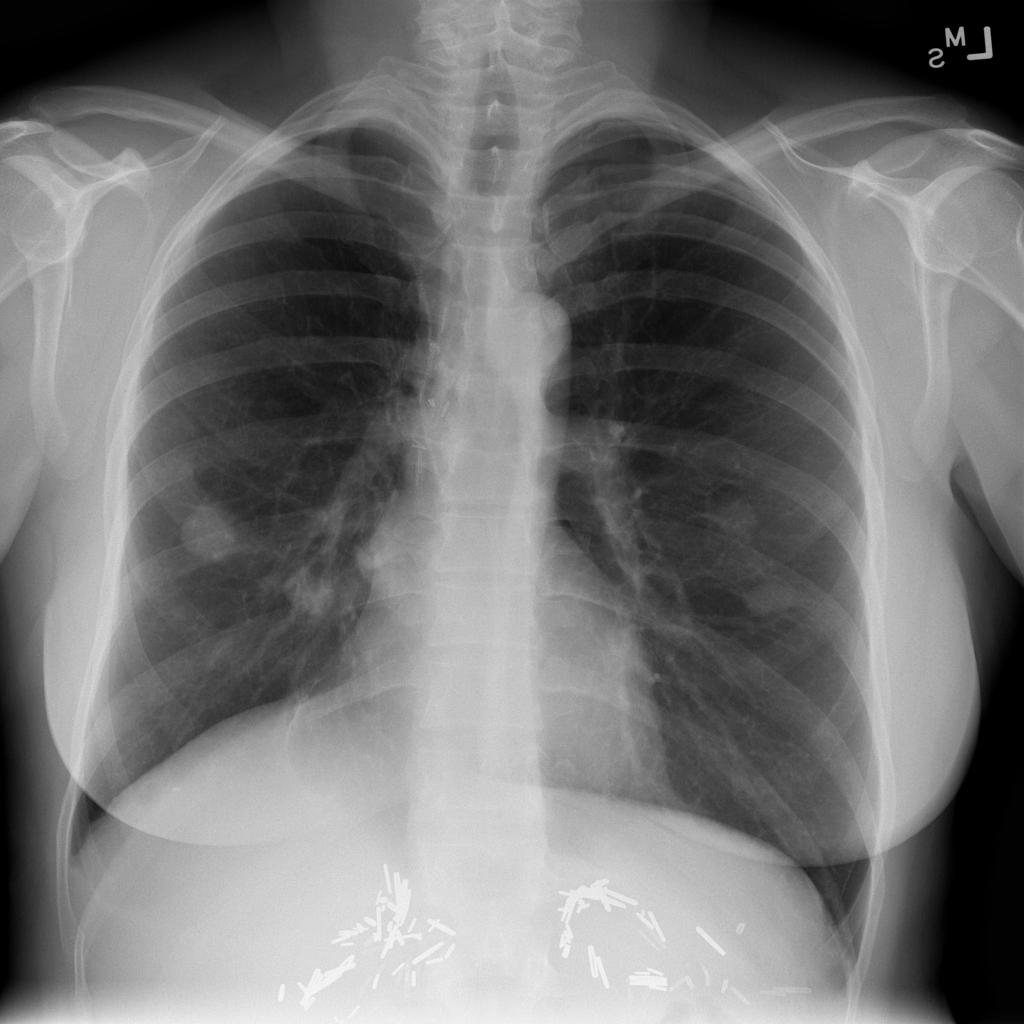nodule: (171, 488, 253, 574), (696, 482, 773, 557), (273, 551, 349, 626), (733, 567, 814, 629)
